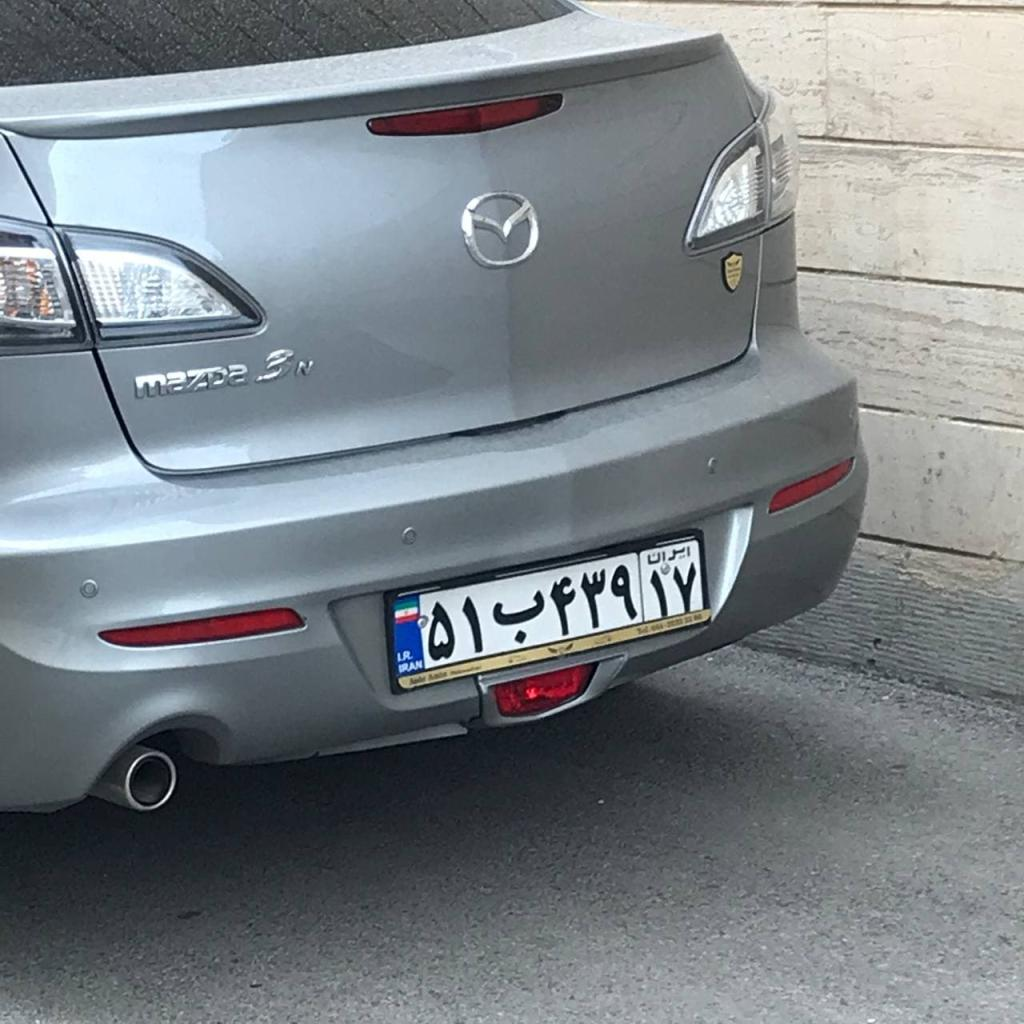Plates: (391, 541, 704, 677)
